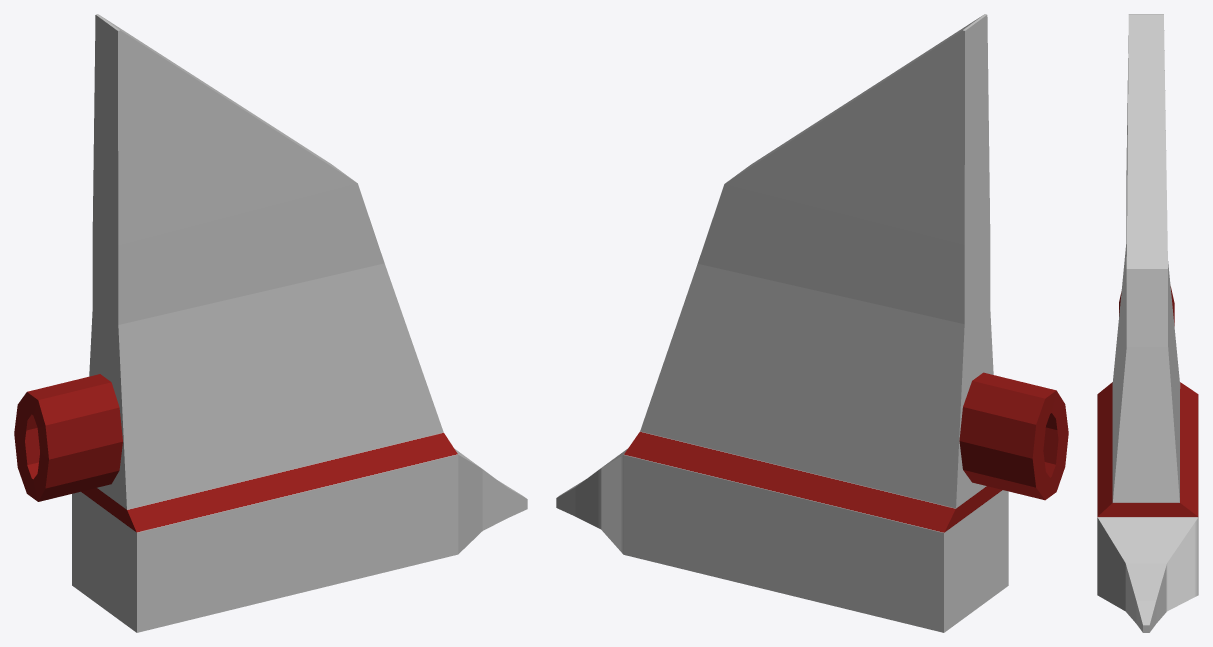
The model's file is haba_alus.fbx.
3 renders of one model, left to right at view 1: azimuth 30°, elevation 25°; view 2: azimuth 150°, elevation 25°; view 3: azimuth 270°, elevation 25°, orthographic. The views are drawn at different scales.
Parts seen in each view (by area): view 1: Cube; view 2: Cube; view 3: Cube.
Part boxes in pixels (bbox=[...]): Cube: bbox=[14, 14, 527, 632]; Cube: bbox=[556, 14, 1068, 632]; Cube: bbox=[1097, 14, 1198, 632].
Size of the model in its own units: 929 by 1055 by 211.
Materials: 1 (1 with a texture image).
